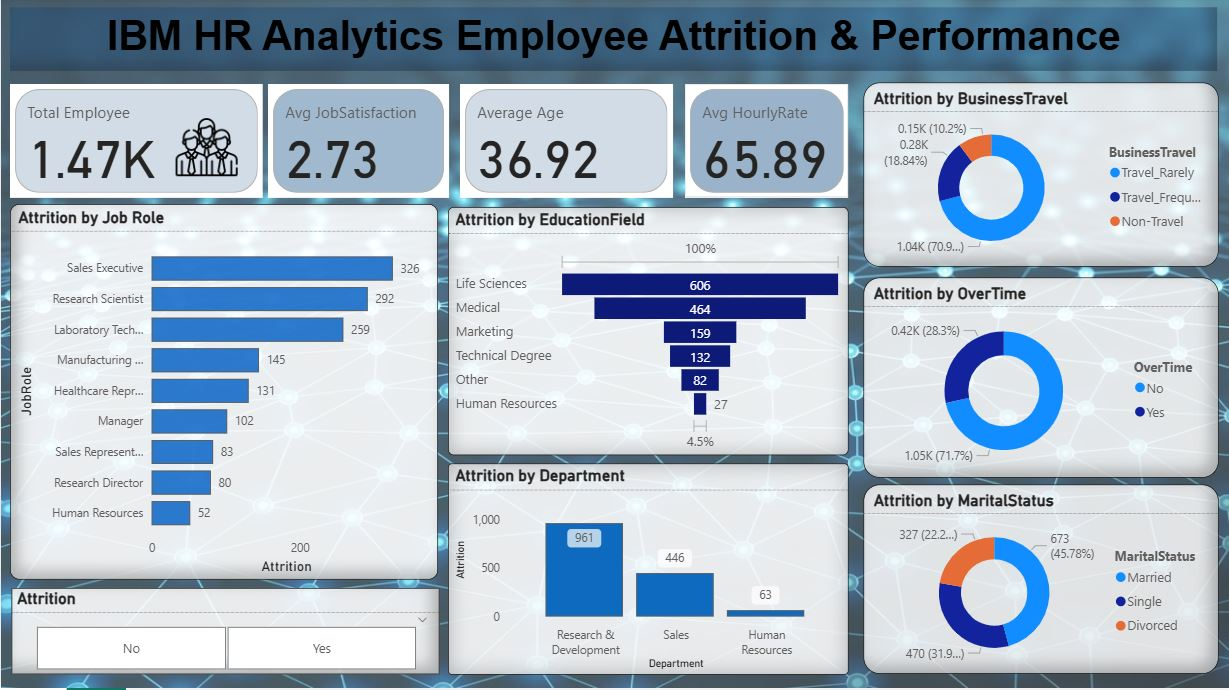

The page's visual inventory and layout, read from the dashboard file:
{"tool":"powerbi","page":{"name":"Page 1","canvas":[1280,720],"ordinal":0},"visuals":[{"type":"textbox","box":[9.6,11,1258.3,65.9],"z":0},{"type":"cardVisual","fields":{"Data":["Avg(WA_Fn-UseC_-HR-Employee-Attrition.Age)"]},"box":[478.3,90,221.7,118.3],"z":1000},{"type":"cardVisual","fields":{"Data":["Avg(WA_Fn-UseC_-HR-Employee-Attrition.HourlyRate)"]},"box":[713.3,90,170,118.3],"z":2000},{"type":"cardVisual","fields":{"Data":["Avg(WA_Fn-UseC_-HR-Employee-Attrition.JobSatisfaction)"]},"box":[278.3,90,188.3,118.3],"z":3000},{"type":"cardVisual","fields":{"Data":["CountNonNull(WA_Fn-UseC_-HR-Employee-Attrition.EmployeeCount)"]},"box":[10,90,263.3,118.3],"z":4000},{"type":"funnel","fields":{"Category":["WA_Fn-UseC_-HR-Employee-Attrition.EducationField"],"Y":["CountNonNull(WA_Fn-UseC_-HR-Employee-Attrition.Attrition)"]},"box":[466.2,218.8,417.5,258.8],"z":5000},{"type":"image","box":[171.7,118.3,85,75],"z":6000},{"type":"clusteredBarChart","title":"Attrition by Job Role","fields":{"Category":["WA_Fn-UseC_-HR-Employee-Attrition.JobRole"],"Y":["CountNonNull(WA_Fn-UseC_-HR-Employee-Attrition.Attrition)"]},"box":[10,216.2,446.2,391.2],"z":7000},{"type":"donutChart","fields":{"Y":["CountNonNull(WA_Fn-UseC_-HR-Employee-Attrition.Attrition)"],"Category":["WA_Fn-UseC_-HR-Employee-Attrition.MaritalStatus"]},"box":[898.8,508.8,370,197.5],"z":8000},{"type":"donutChart","fields":{"Y":["CountNonNull(WA_Fn-UseC_-HR-Employee-Attrition.Attrition)"],"Category":["WA_Fn-UseC_-HR-Employee-Attrition.OverTime"]},"box":[898.3,291.7,370,208.3],"z":9000},{"type":"donutChart","fields":{"Category":["WA_Fn-UseC_-HR-Employee-Attrition.BusinessTravel"],"Y":["CountNonNull(WA_Fn-UseC_-HR-Employee-Attrition.Attrition)"]},"box":[898.3,88.3,370,191.7],"z":10000},{"type":"lineClusteredColumnComboChart","fields":{"Category":["WA_Fn-UseC_-HR-Employee-Attrition.Department"],"Y":["CountNonNull(WA_Fn-UseC_-HR-Employee-Attrition.Attrition)"]},"box":[466.2,486.2,417.5,220],"z":11000},{"type":"slicer","title":"Attrition","fields":{"Values":["WA_Fn-UseC_-HR-Employee-Attrition.Attrition"]},"box":[11.2,616.2,446.2,90],"z":12000}]}

Visuals, with their boxes in screenshot pixels (x1, y1, x2, y2), scaled from the page's 1280x720 canvas onto the 1229x690 screenshot:
textbox: bbox(9, 11, 1217, 74)
cardVisual - Avg(WA_Fn-UseC_-HR-Employee-Attrition.Age): bbox(459, 86, 672, 200)
cardVisual - Avg(WA_Fn-UseC_-HR-Employee-Attrition.HourlyRate): bbox(685, 86, 848, 200)
cardVisual - Avg(WA_Fn-UseC_-HR-Employee-Attrition.JobSatisfaction): bbox(267, 86, 448, 200)
cardVisual - CountNonNull(WA_Fn-UseC_-HR-Employee-Attrition.EmployeeCount): bbox(10, 86, 262, 200)
funnel - WA_Fn-UseC_-HR-Employee-Attrition.EducationField x CountNonNull(WA_Fn-UseC_-HR-Employee-Attrition.Attrition): bbox(448, 210, 848, 458)
image: bbox(165, 113, 246, 185)
"Attrition by Job Role" clusteredBarChart: bbox(10, 207, 438, 582)
donutChart - CountNonNull(WA_Fn-UseC_-HR-Employee-Attrition.Attrition) x WA_Fn-UseC_-HR-Employee-Attrition.MaritalStatus: bbox(863, 488, 1218, 677)
donutChart - CountNonNull(WA_Fn-UseC_-HR-Employee-Attrition.Attrition) x WA_Fn-UseC_-HR-Employee-Attrition.OverTime: bbox(863, 280, 1218, 479)
donutChart - WA_Fn-UseC_-HR-Employee-Attrition.BusinessTravel x CountNonNull(WA_Fn-UseC_-HR-Employee-Attrition.Attrition): bbox(863, 85, 1218, 268)
lineClusteredColumnComboChart - WA_Fn-UseC_-HR-Employee-Attrition.Department x CountNonNull(WA_Fn-UseC_-HR-Employee-Attrition.Attrition): bbox(448, 466, 848, 677)
"Attrition" slicer: bbox(11, 591, 439, 677)
